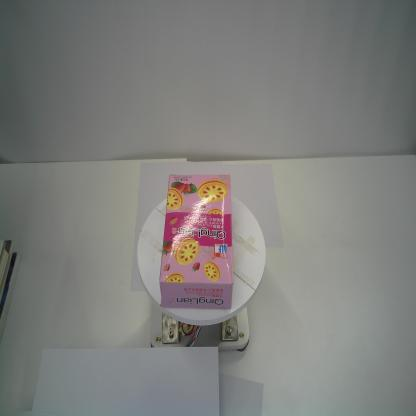Dessert: (159, 174, 234, 310)
